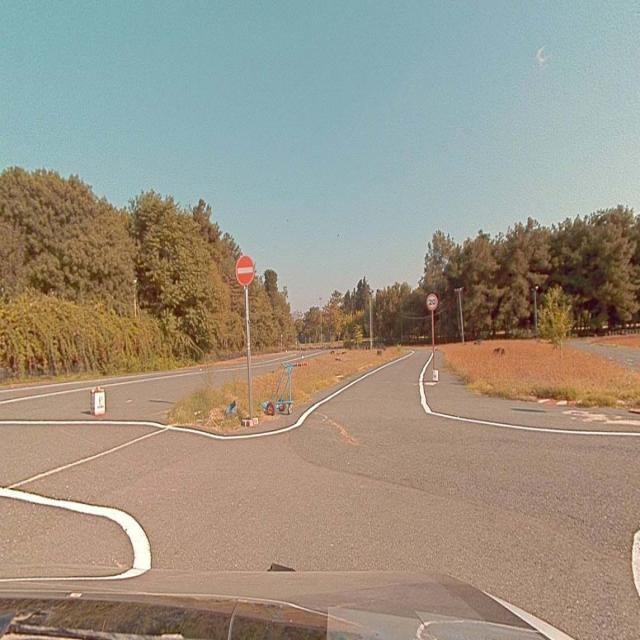20: (426, 294, 437, 310)
girisyok: (236, 256, 254, 285)
